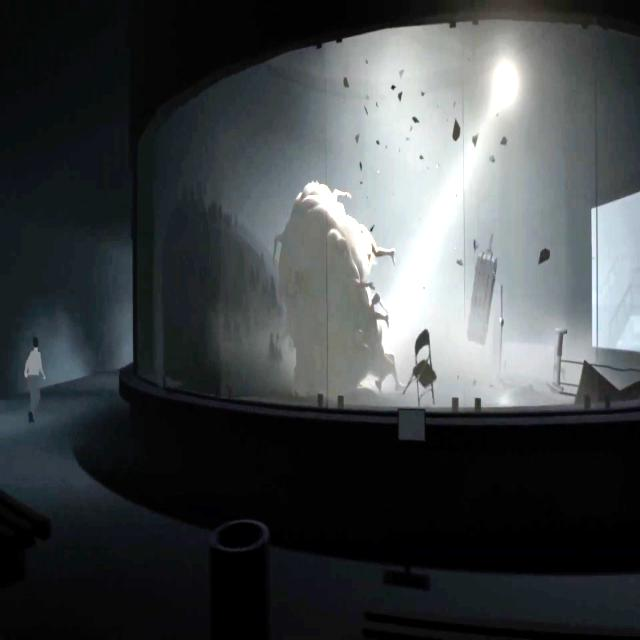blob: (273, 180, 407, 405)
human: (24, 339, 45, 424)
